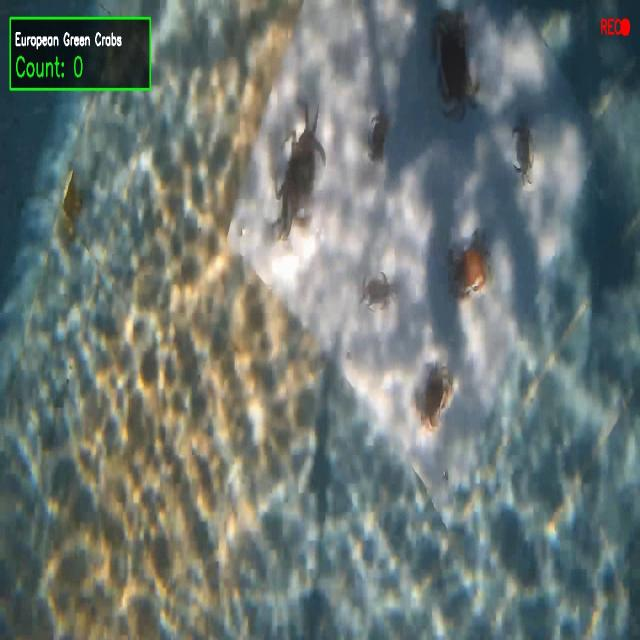European_Green_Crab: (259, 91, 334, 253), (355, 268, 400, 324), (508, 115, 537, 190)
